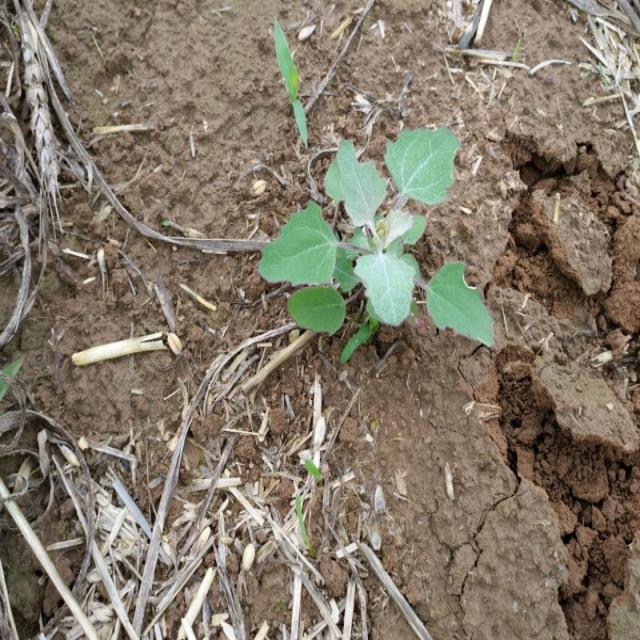goosefoots: (236, 123, 510, 353)
